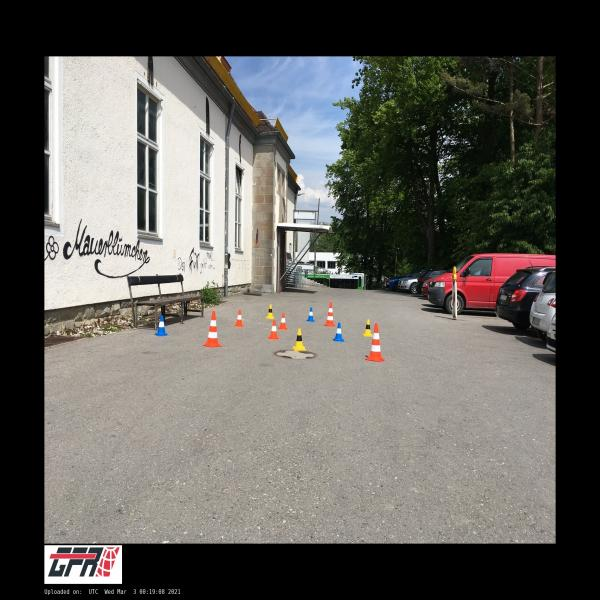blue_cone: (154, 316, 168, 336), (332, 322, 344, 342), (306, 307, 314, 322)
large_orange_cone: (365, 323, 385, 362), (202, 311, 222, 347), (323, 302, 336, 326)
orange_cone: (268, 320, 279, 339), (278, 312, 288, 330), (234, 310, 244, 327)
yellow_cone: (292, 328, 306, 350), (362, 319, 373, 337), (266, 304, 274, 319)
